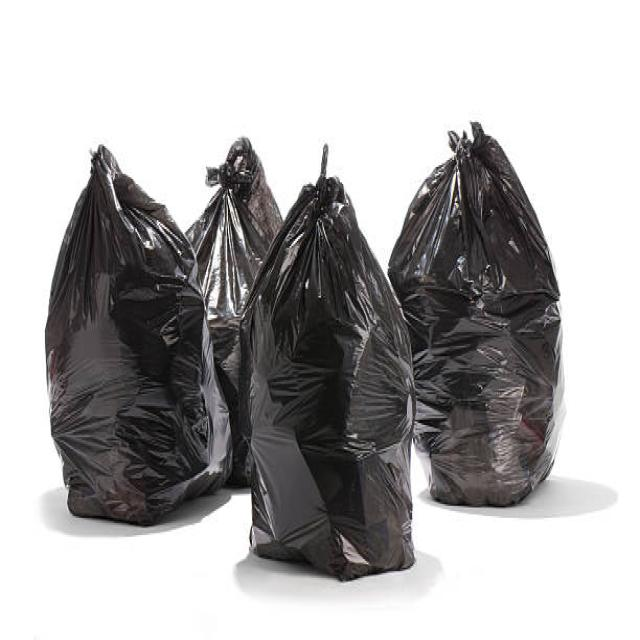trash: (30, 111, 568, 574)
